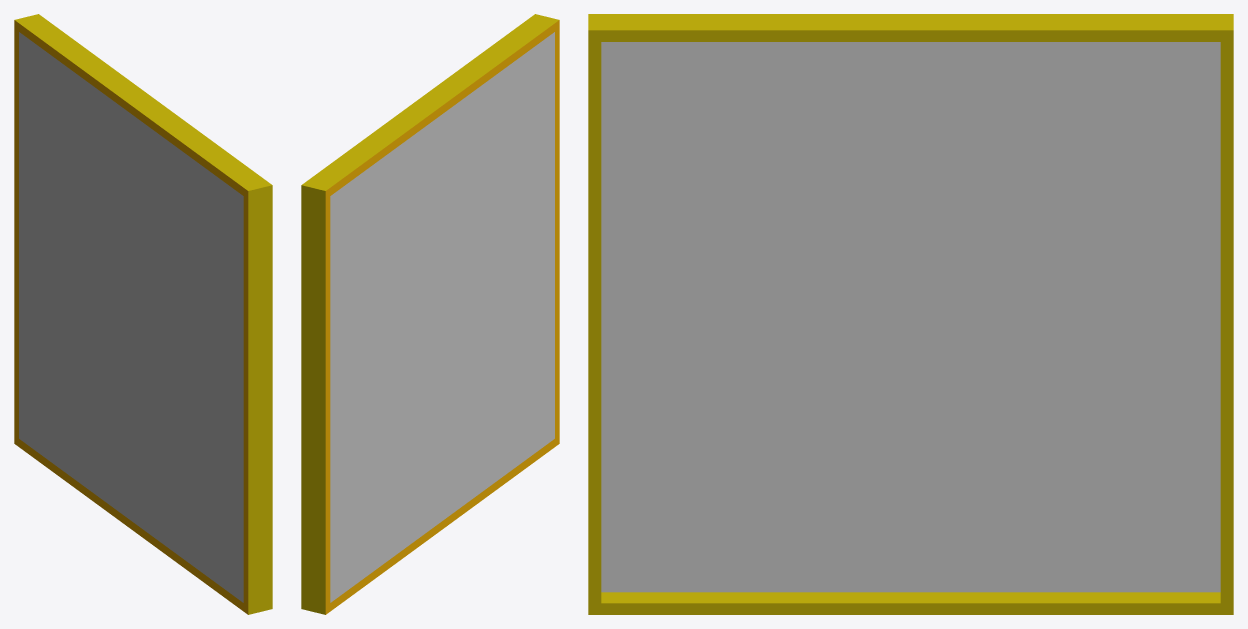
The model's file is window_4x4.dae.
The picture shows the model from 3 angles, left to right: view 1: azimuth 30°, elevation 25°; view 2: azimuth 150°, elevation 25°; view 3: azimuth 270°, elevation 25°; orthographic projection. The views are drawn at different scales.
Visible parts, largest first — view 1: Cube; view 2: Cube; view 3: Cube.
Part boxes in pixels (left/top/right/bottom): Cube: left=14, top=14, right=272, bottom=614; Cube: left=301, top=14, right=559, bottom=614; Cube: left=588, top=14, right=1233, bottom=614.
Size of the model in its own units: 0.06 by 1 by 1.
